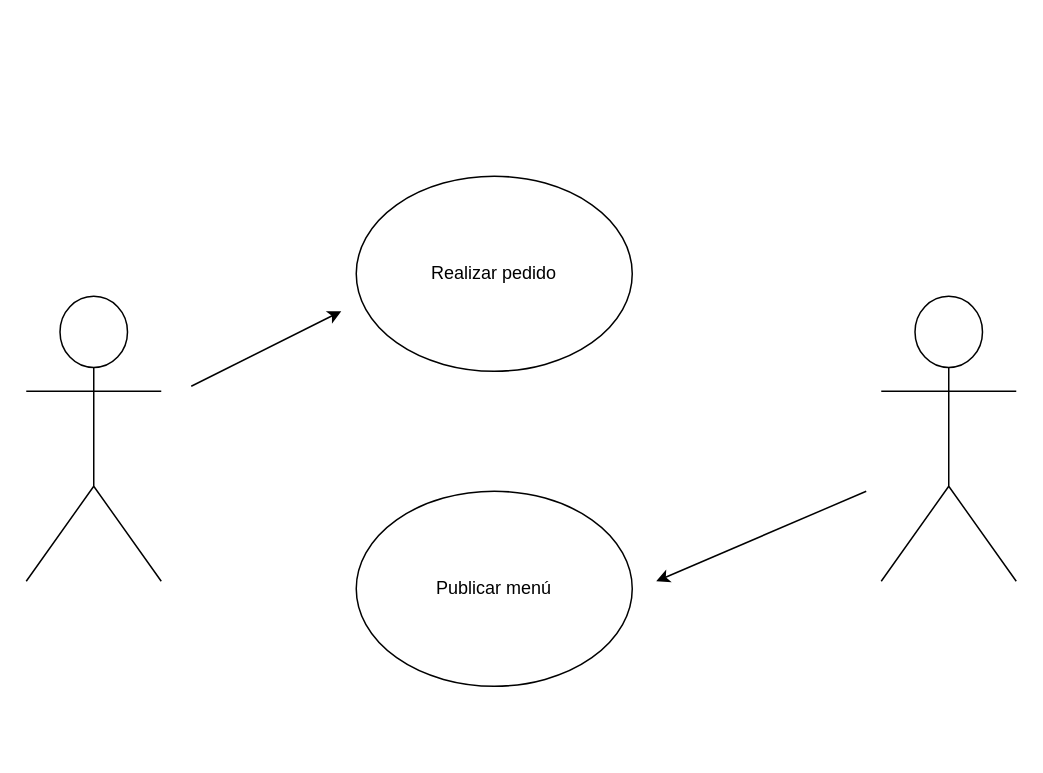
Image size: 1043x773. Some labels were removed from this diagram. Each missing label, with the box of its shape:
Cafetería: (880, 295, 1016, 581)
Consumidor: (25, 295, 161, 581)
